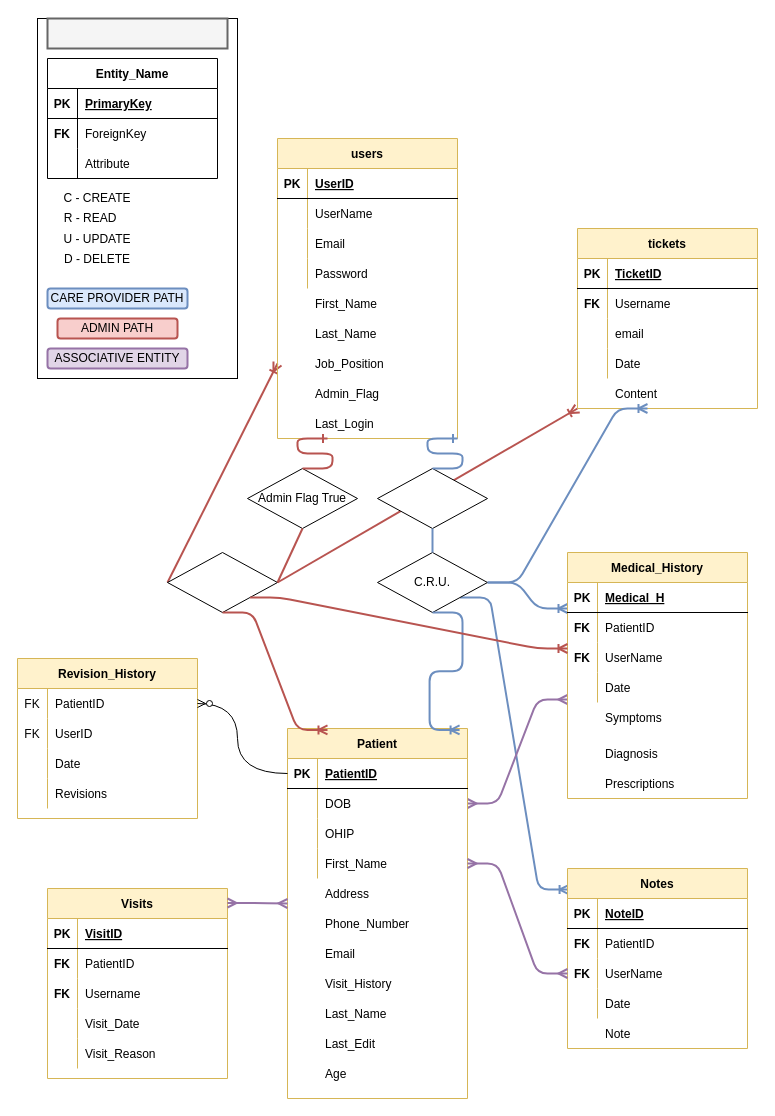
This 775x1116 diagram has some shape labels left out. Each missing label, with the centre of its shape:
"Admin Flag False" goes at point 432,498.
"C.R.U.D." goes at point 222,582.
"LEGEND" goes at point 137,33.
